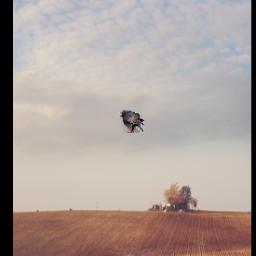Crow: (118, 111, 144, 134)
